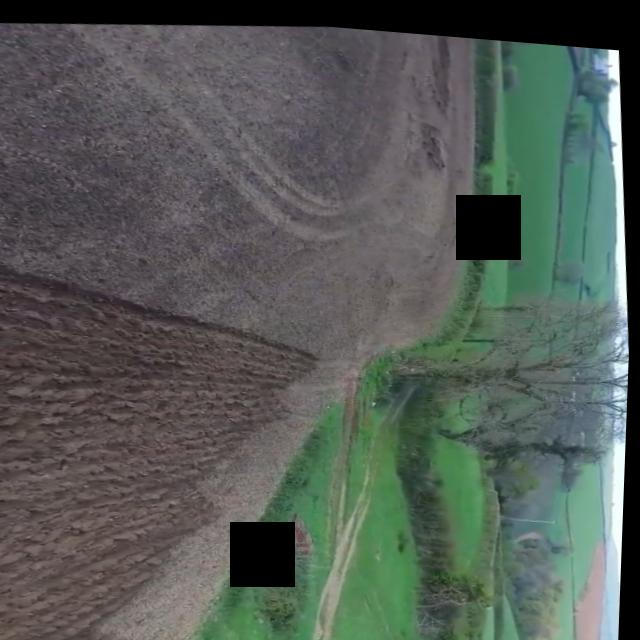Tree: (381, 269, 633, 457), (439, 625, 623, 640)
